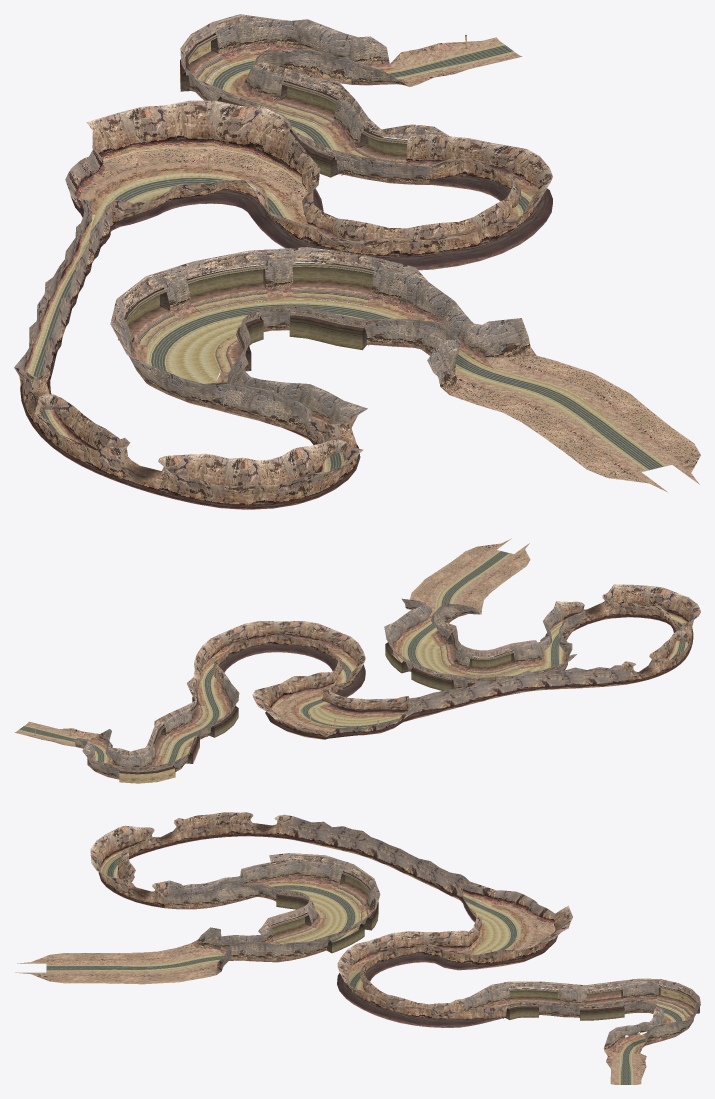
The model's file is stage-ruin-env.glb.
3 renders of one model, top to bottom at view 1: azimuth 30°, elevation 25°; view 2: azimuth 150°, elevation 25°; view 3: azimuth 270°, elevation 25°, orthographic. The views are drawn at different scales.
Parts seen in each view (by area): view 1: env part 1 chunk -2,-2, env part 1 chunk 0,-4, env part 1 chunk -1,-4, env part 1 chunk 0,-5, env part 1 chunk -1,-3, env part 1 chunk -1,-1, env part 1 chunk -1,-2, env part 1 chunk -2,-3, env part 1 chunk 1,-5, env part 0 chunk -2,-3, env part 0 chunk -1,-3, env part 0 chunk -1,-4 (+7 smaller); view 2: env part 1 chunk 0,-4, env part 1 chunk -2,-2, env part 1 chunk -2,-3, env part 1 chunk 0,-5, env part 1 chunk -1,-4, env part 1 chunk -1,-1, env part 1 chunk -1,-2, env part 1 chunk -1,-3, env part 0 chunk -1,-4, env part 1 chunk 1,-5, env part 0 chunk -1,-2, env part 0 chunk 0,-4 (+7 smaller); view 3: env part 1 chunk -2,-2, env part 1 chunk 0,-4, env part 1 chunk 0,-5, env part 1 chunk -2,-3, env part 1 chunk -1,-3, env part 1 chunk -1,-4, env part 1 chunk -1,-1, env part 1 chunk -1,-2, env part 1 chunk 1,-5, env part 0 chunk -1,-4, env part 0 chunk -2,-3, env part 0 chunk -1,-3 (+5 smaller).
Part boxes in pixels (box(x1,y1,x2,y2)): env part 1 chunk -2,-2: box(14, 366, 367, 509); env part 1 chunk 0,-4: box(110, 128, 552, 270); env part 1 chunk -1,-4: box(65, 100, 320, 230); env part 1 chunk 0,-5: box(180, 14, 449, 184); env part 1 chunk -1,-3: box(110, 247, 427, 393); env part 1 chunk -1,-1: box(450, 355, 700, 492); env part 1 chunk -1,-2: box(228, 274, 536, 394); env part 1 chunk -2,-3: box(14, 200, 263, 388); env part 1 chunk 1,-5: box(289, 35, 522, 86); env part 0 chunk -2,-3: box(32, 268, 243, 383); env part 0 chunk -1,-3: box(155, 299, 390, 342); env part 0 chunk -1,-4: box(104, 173, 295, 221); env part 1 chunk 0,-4: box(190, 621, 409, 726); env part 1 chunk -2,-2: box(538, 584, 700, 684); env part 1 chunk -2,-3: box(409, 650, 629, 718); env part 1 chunk 0,-5: box(74, 677, 239, 779); env part 1 chunk -1,-4: box(252, 672, 414, 739); env part 1 chunk -1,-1: box(409, 538, 530, 613); env part 1 chunk -1,-2: box(388, 598, 543, 670); env part 1 chunk -1,-3: box(384, 622, 576, 690); env part 0 chunk -1,-4: box(299, 679, 400, 727); env part 1 chunk 1,-5: box(14, 721, 118, 764); env part 0 chunk -1,-2: box(402, 593, 453, 659); env part 0 chunk 0,-4: box(200, 664, 223, 727); env part 1 chunk -2,-2: box(90, 812, 293, 909); env part 1 chunk 0,-4: box(337, 884, 538, 1027); env part 1 chunk 0,-5: box(462, 978, 700, 1053); env part 1 chunk -2,-3: box(276, 816, 471, 918); env part 1 chunk -1,-3: box(262, 853, 380, 956); env part 1 chunk -1,-4: box(424, 881, 572, 970); env part 1 chunk -1,-1: box(15, 943, 220, 984); env part 1 chunk -1,-2: box(191, 883, 318, 974); env part 1 chunk 1,-5: box(603, 1016, 659, 1084); env part 0 chunk -1,-4: box(466, 902, 520, 954); env part 0 chunk -2,-3: box(272, 883, 347, 921); env part 0 chunk -1,-3: box(307, 896, 362, 977).
Bounding box in the file's own units: 1346 × 158 × 1705.
23 materials, 23 textured.
